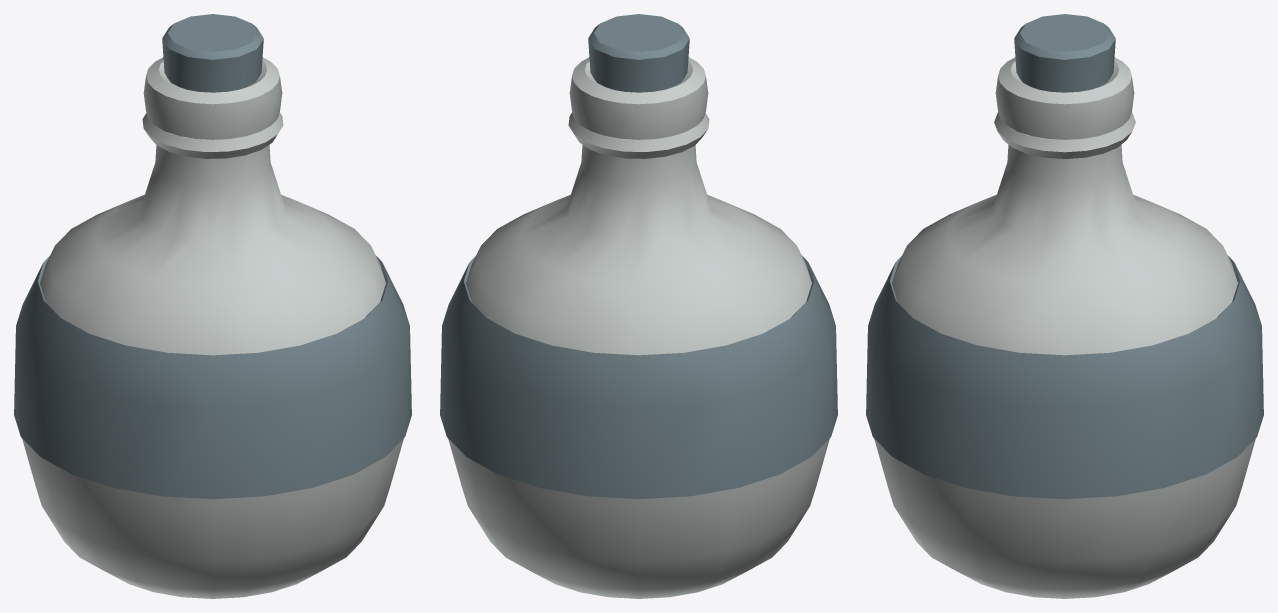
The model's file is potion-bottle.glb.
The picture shows the model from 3 angles, left to right: view 1: azimuth 30°, elevation 25°; view 2: azimuth 150°, elevation 25°; view 3: azimuth 270°, elevation 25°; orthographic projection.
Parts seen in each view (by area): view 1: round_bottle, potion_band, cork, neck_ring; view 2: round_bottle, potion_band, cork, neck_ring; view 3: round_bottle, potion_band, cork, neck_ring.
Boxes of the visible parts, bbox=[...] form: round_bottle: bbox=[22, 57, 403, 598]; potion_band: bbox=[14, 256, 411, 499]; cork: bbox=[162, 14, 263, 92]; neck_ring: bbox=[142, 112, 283, 158]; round_bottle: bbox=[448, 57, 829, 598]; potion_band: bbox=[440, 256, 837, 499]; cork: bbox=[588, 14, 689, 92]; neck_ring: bbox=[568, 112, 709, 158]; round_bottle: bbox=[874, 57, 1255, 598]; potion_band: bbox=[866, 256, 1263, 499]; cork: bbox=[1014, 14, 1115, 92]; neck_ring: bbox=[994, 112, 1135, 158].
Bounding box in the file's own units: 0.202 × 0.2912 × 0.202.
